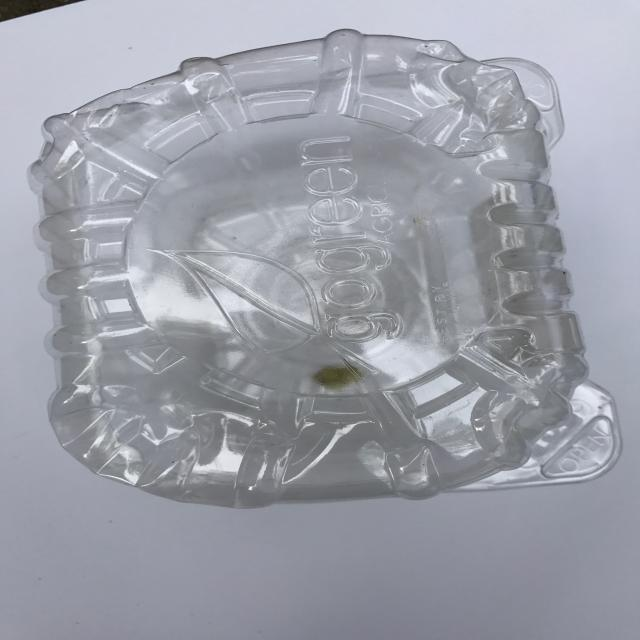plastic: (24, 26, 624, 510)
